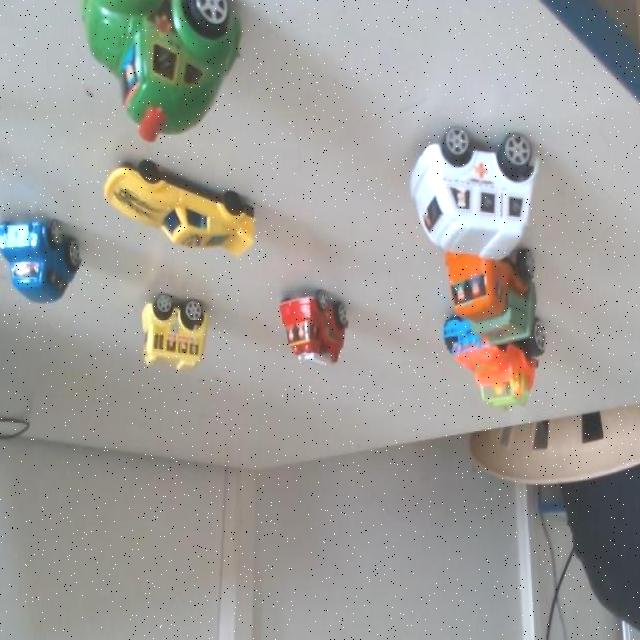car: (381, 100, 528, 282), (69, 0, 217, 133), (113, 148, 242, 267), (433, 310, 517, 416), (130, 278, 215, 378), (277, 270, 352, 379), (448, 235, 514, 353), (0, 209, 67, 304)
